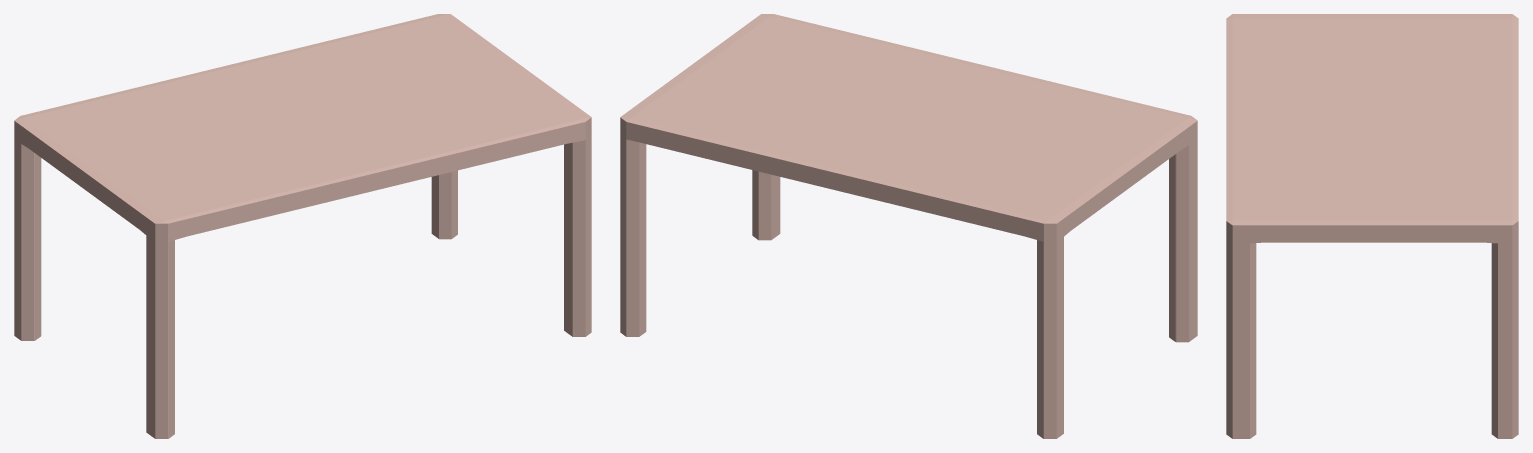
The model's file is table-k.fbx.
3 renders of one model, left to right at view 1: azimuth 30°, elevation 25°; view 2: azimuth 150°, elevation 25°; view 3: azimuth 270°, elevation 25°, orthographic.
Visible parts, largest first — view 1: table; view 2: table; view 3: table.
Boxes of the visible parts, x1,y1,x2,y2 form: table: [14, 14, 591, 438]; table: [620, 14, 1197, 438]; table: [1226, 14, 1518, 438].
Size of the model in its own units: 254 by 120 by 148.
